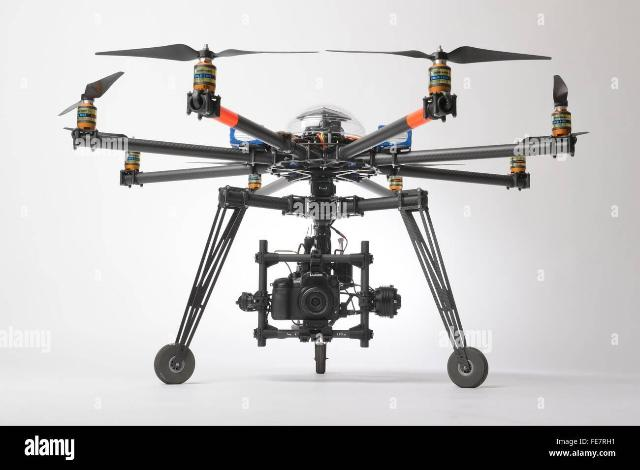drone: (60, 44, 588, 388)
